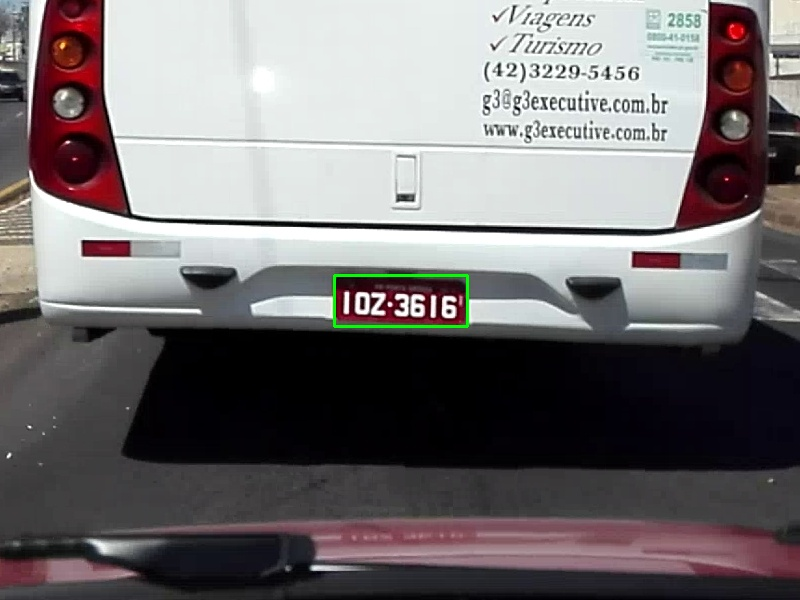placa: (334, 275, 467, 326)
